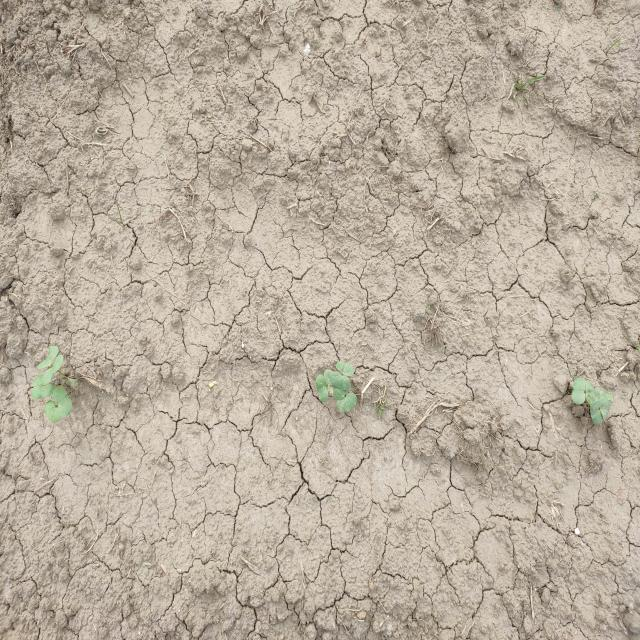seedling: (42, 355, 63, 385), (52, 387, 72, 417), (37, 346, 59, 370), (336, 392, 357, 412), (571, 378, 586, 405), (44, 400, 61, 423), (31, 384, 56, 399), (331, 371, 350, 390), (316, 375, 329, 402), (590, 399, 603, 425), (324, 369, 336, 396), (334, 383, 351, 400), (585, 381, 597, 405), (335, 361, 354, 376), (599, 395, 609, 419), (595, 389, 612, 400), (31, 374, 44, 387)
